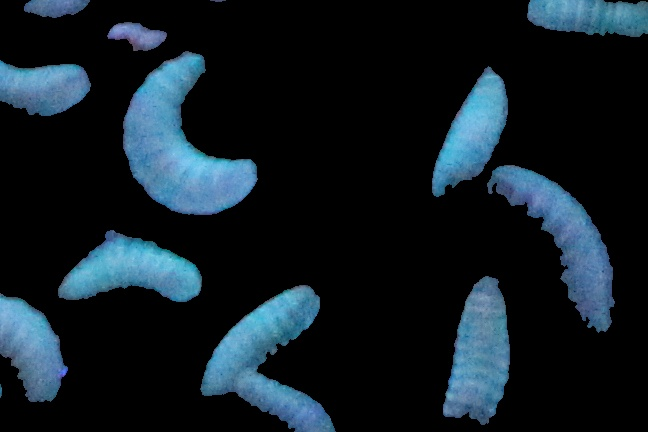larvae: (124, 54, 262, 219), (489, 160, 614, 334), (197, 286, 317, 399), (56, 218, 201, 306), (429, 68, 511, 208), (442, 273, 508, 424), (1, 294, 67, 404), (1, 55, 93, 126), (238, 377, 342, 432), (522, 1, 648, 40)
